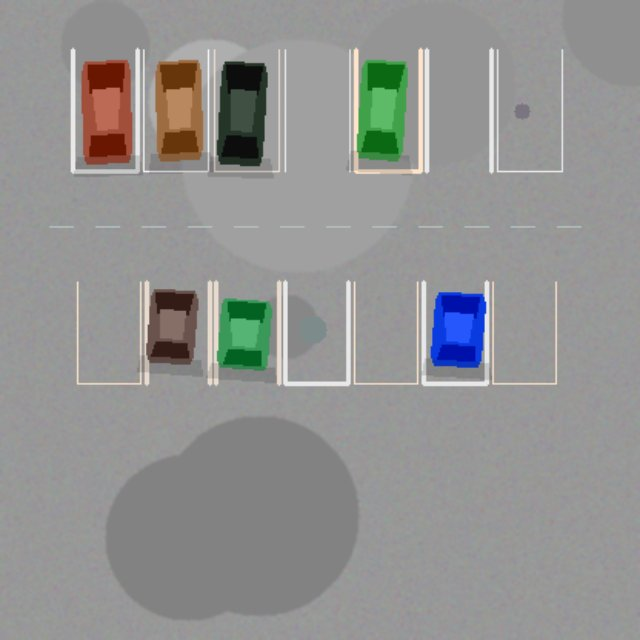space-empty: (426, 49, 491, 171), (497, 49, 562, 171), (285, 49, 349, 171), (77, 282, 140, 383), (285, 282, 348, 383), (354, 282, 417, 383), (492, 282, 555, 383)
space-occupied: (72, 49, 137, 171), (143, 49, 208, 171), (355, 49, 420, 171), (214, 49, 278, 171), (146, 282, 209, 383), (215, 282, 278, 383), (423, 282, 486, 383)
